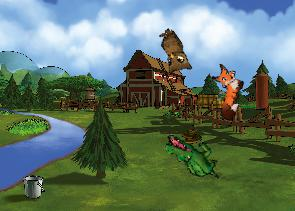crocodile: (159, 133, 225, 180)
fox: (201, 62, 249, 121)
owl: (147, 26, 196, 80)
